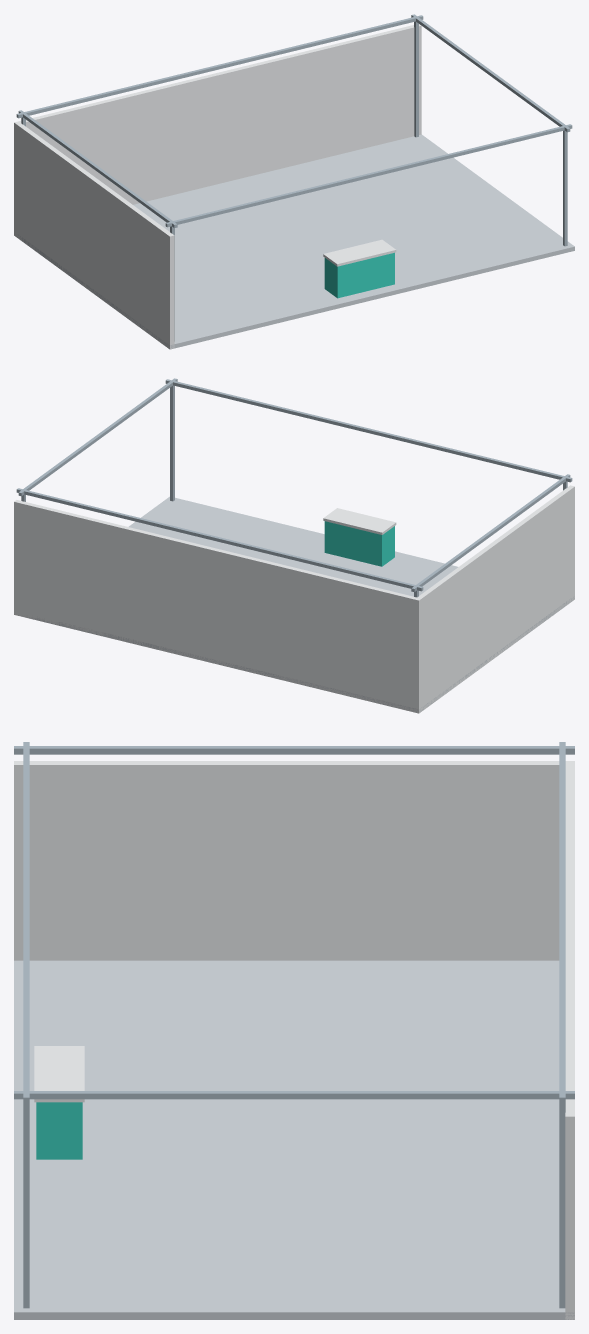
3 renders of one model, top to bottom at view 1: azimuth 30°, elevation 25°; view 2: azimuth 150°, elevation 25°; view 3: azimuth 270°, elevation 25°, orthographic. The views are drawn at different scales.
Visible parts, largest first — view 1: Exhibition Booth Concept; view 2: Exhibition Booth Concept; view 3: Exhibition Booth Concept.
Part boxes in pixels (x1,y1,x2,y2): Exhibition Booth Concept: (14, 14, 574, 349); Exhibition Booth Concept: (14, 378, 574, 713); Exhibition Booth Concept: (14, 742, 574, 1319).
Bounding box in the file's own units: 12 × 3.49 × 8.
